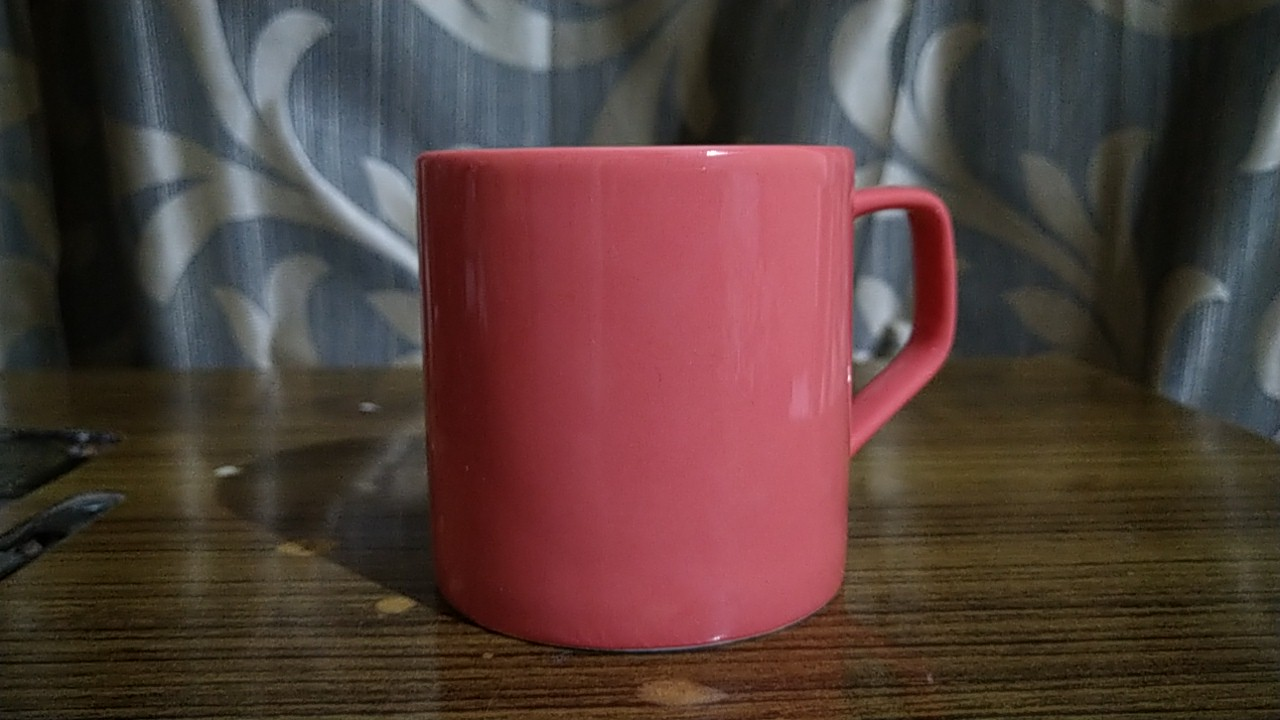cup: (408, 136, 964, 664)
